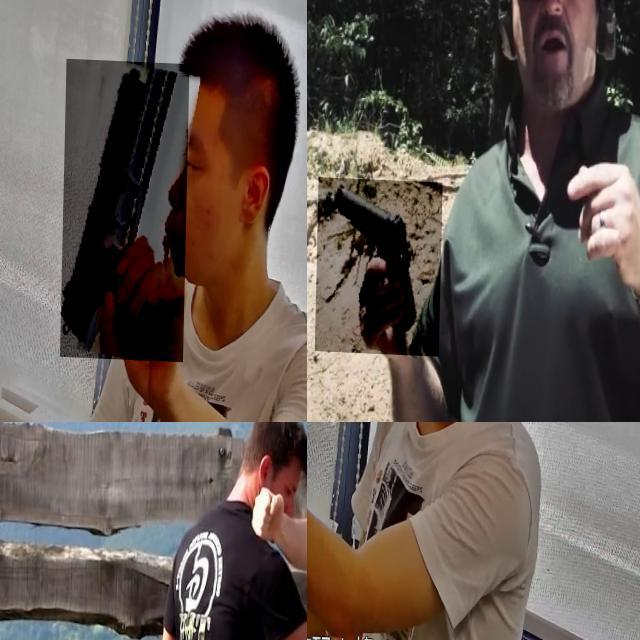gun-knife-thesis - v11 Yolov5 augmented: (62, 57, 190, 359), (318, 176, 445, 354), (307, 422, 351, 549)
